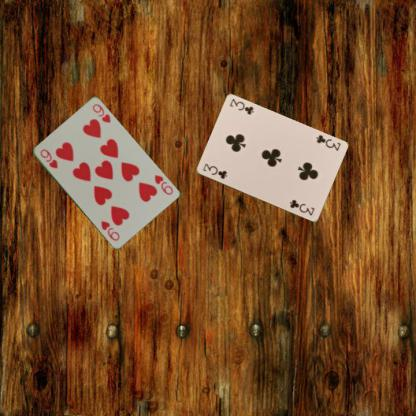3c: (313, 132, 342, 152), (200, 161, 228, 180)
9h: (151, 172, 174, 197), (37, 146, 59, 170)
